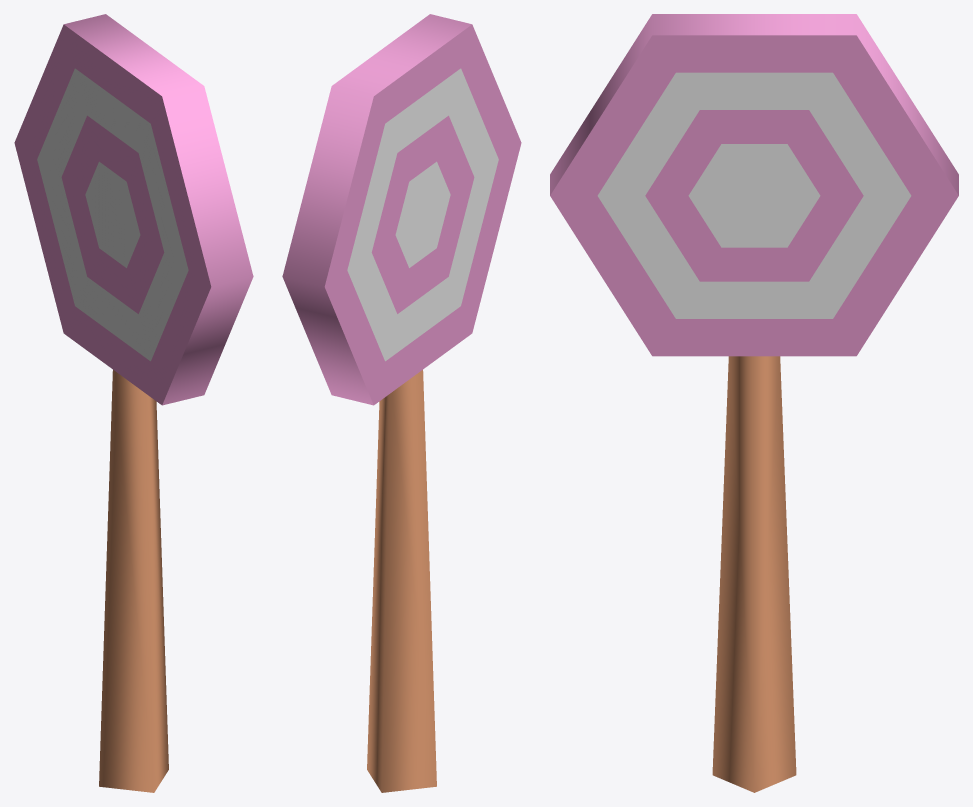
Rendered from lollypop.obj.
The picture shows the model from 3 angles, left to right: view 1: azimuth 30°, elevation 25°; view 2: azimuth 150°, elevation 25°; view 3: azimuth 270°, elevation 25°; orthographic projection. The views are drawn at different scales.
Parts seen in each view (by area): view 1: lollypop; view 2: lollypop; view 3: lollypop.
Part boxes in pixels (bbox=[...]): lollypop: bbox=[14, 14, 253, 792]; lollypop: bbox=[282, 14, 521, 792]; lollypop: bbox=[550, 14, 958, 792].
Bounding box in the file's own units: 0.0385 × 0.3798 × 0.1875.
